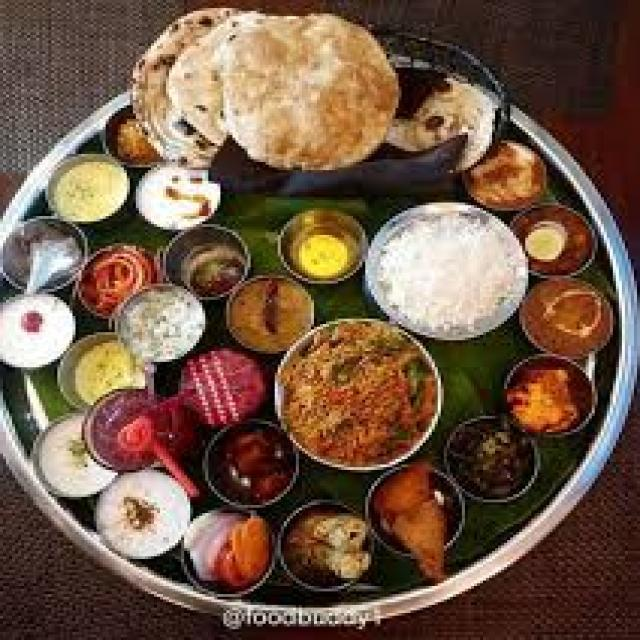papad: (196, 10, 405, 170)
raita: (82, 460, 202, 563), (0, 289, 81, 374), (130, 164, 230, 230)
rice: (360, 206, 523, 340)
roti: (186, 11, 401, 172)
sambar-rasam: (196, 426, 307, 507), (218, 273, 318, 355)
sweet: (496, 357, 605, 445), (198, 426, 307, 509), (0, 285, 81, 377)
veg-fry: (272, 329, 447, 474), (363, 459, 472, 568)
